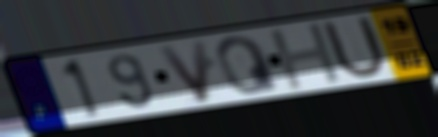1: (59, 57, 104, 120)
9: (105, 53, 156, 111)
H: (266, 19, 347, 93)
Q: (213, 34, 284, 97)
U: (317, 14, 390, 82)
V: (154, 37, 212, 106)
